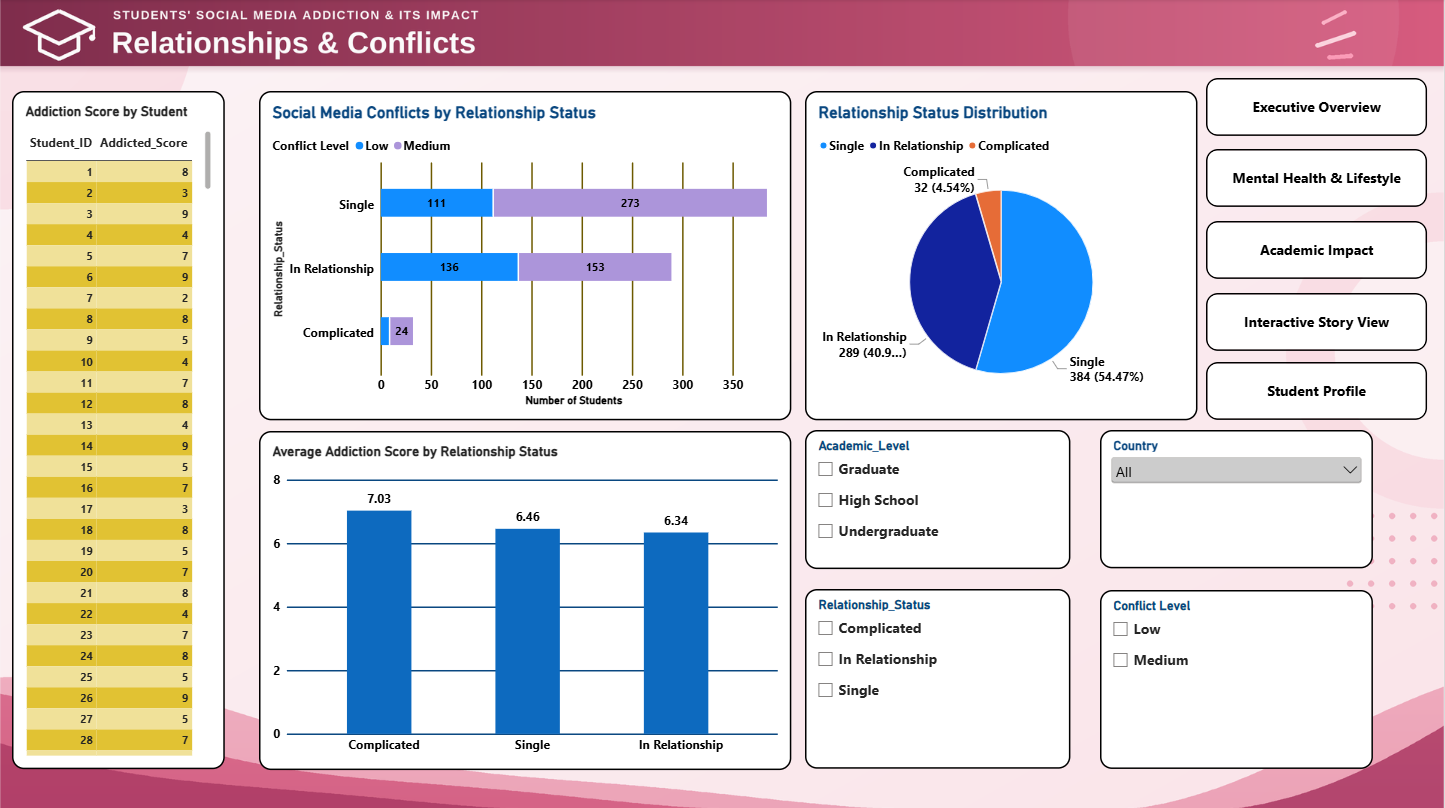

The dashboard page shown, as its layout file describes it:
{"tool":"powerbi","page":{"name":"Relationships and Conflicts","canvas":[1920,1080],"ordinal":3},"visuals":[{"type":"barChart","title":"Social Media Conflicts by Relationship Status","fields":{"Category":["Student Details.Relationship_Status"],"Series":["Student Details.Conflict Level"],"Y":["CountNonNull(Student Details.Student_ID)"]},"box":[344.3,122.6,707.6,437.7],"z":0},{"type":"tableEx","title":"Addiction Score by Student","fields":{"Values":["Student Details.Student_ID","Student Details.Addicted_Score"]},"box":[16,122.6,283,901.6],"z":1000},{"type":"pieChart","title":"Relationship Status Distribution","fields":{"Category":["Student Details.Relationship_Status"],"Y":["CountNonNull(Student Details.Student_ID)"]},"box":[1070.9,122.6,522.3,437.7],"z":2000},{"type":"actionButton","box":[1603.4,482.9,294.3,77],"z":3000},{"type":"actionButton","box":[1603.4,199.9,294.3,77],"z":4000},{"type":"actionButton","box":[1603.4,294.7,294.3,77],"z":5000},{"type":"actionButton","box":[1603.4,391,294.3,77],"z":6000},{"type":"actionButton","box":[1603.4,105,294.3,77],"z":7000},{"type":"slicer","fields":{"Values":["Student Details.Country"]},"box":[1463.3,573.4,363.3,183.8],"z":8000},{"type":"slicer","fields":{"Values":["Student Details.Academic_Level"]},"box":[1070.9,573.4,352.9,184.9],"z":9000},{"type":"clusteredColumnChart","title":"Average Addiction Score by Relationship Status","fields":{"Category":["Student Details.Relationship_Status"],"Y":["Avg(Student Details.Addicted_Score)"]},"box":[344.3,574.8,707.6,450.8],"z":10000},{"type":"slicer","fields":{"Values":["Student Details.Relationship_Status"]},"box":[1070.9,784.9,353.1,239.3],"z":11000},{"type":"slicer","fields":{"Values":["Student Details.Conflict Level"]},"box":[1463.3,786.4,363.3,237.8],"z":12000}]}

Visuals, with their boxes in screenshot pixels (x1, y1, x2, y2), scaled from the page's 1920x1080 canvas onto the 1445x808 screenshot:
"Social Media Conflicts by Relationship Status" barChart: <box>259,92,792,419</box>
"Addiction Score by Student" tableEx: <box>12,92,225,766</box>
"Relationship Status Distribution" pieChart: <box>806,92,1199,419</box>
actionButton: <box>1207,361,1428,419</box>
actionButton: <box>1207,150,1428,207</box>
actionButton: <box>1207,220,1428,278</box>
actionButton: <box>1207,293,1428,350</box>
actionButton: <box>1207,79,1428,136</box>
slicer - Student Details.Country: <box>1101,429,1375,566</box>
slicer - Student Details.Academic_Level: <box>806,429,1072,567</box>
"Average Addiction Score by Relationship Status" clusteredColumnChart: <box>259,430,792,767</box>
slicer - Student Details.Relationship_Status: <box>806,587,1072,766</box>
slicer - Student Details.Conflict Level: <box>1101,588,1375,766</box>
